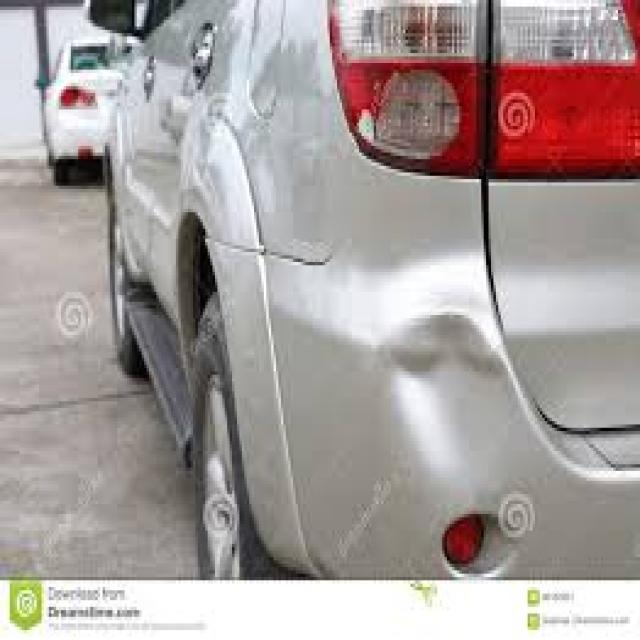minor: (334, 265, 587, 510)
